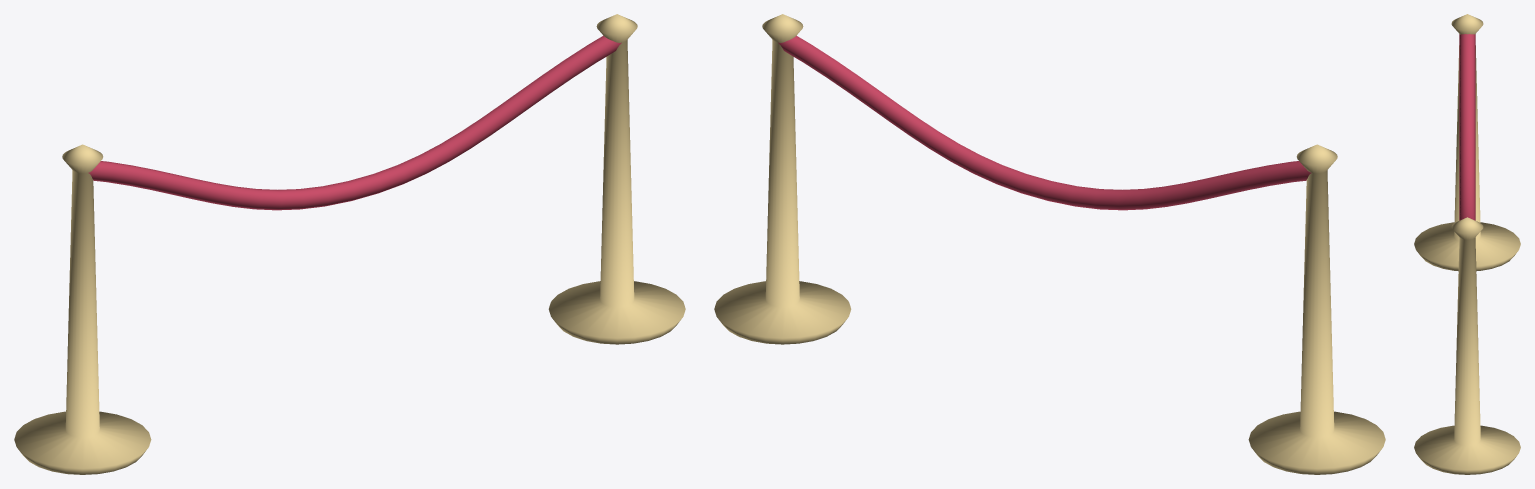
File: rope_stanchion.glb
3 renders of one model, left to right at view 1: azimuth 30°, elevation 25°; view 2: azimuth 150°, elevation 25°; view 3: azimuth 270°, elevation 25°, orthographic. The views are drawn at different scales.
Parts seen in each view (by area): view 1: rope_stanchion; view 2: rope_stanchion; view 3: rope_stanchion.
Boxes of the visible parts, <box> form: rope_stanchion: <box>14,14,685,474</box>; rope_stanchion: <box>714,14,1385,474</box>; rope_stanchion: <box>1414,14,1520,474</box>.
Bounding box in the file's own units: 2.2 × 0.98 × 0.4.
